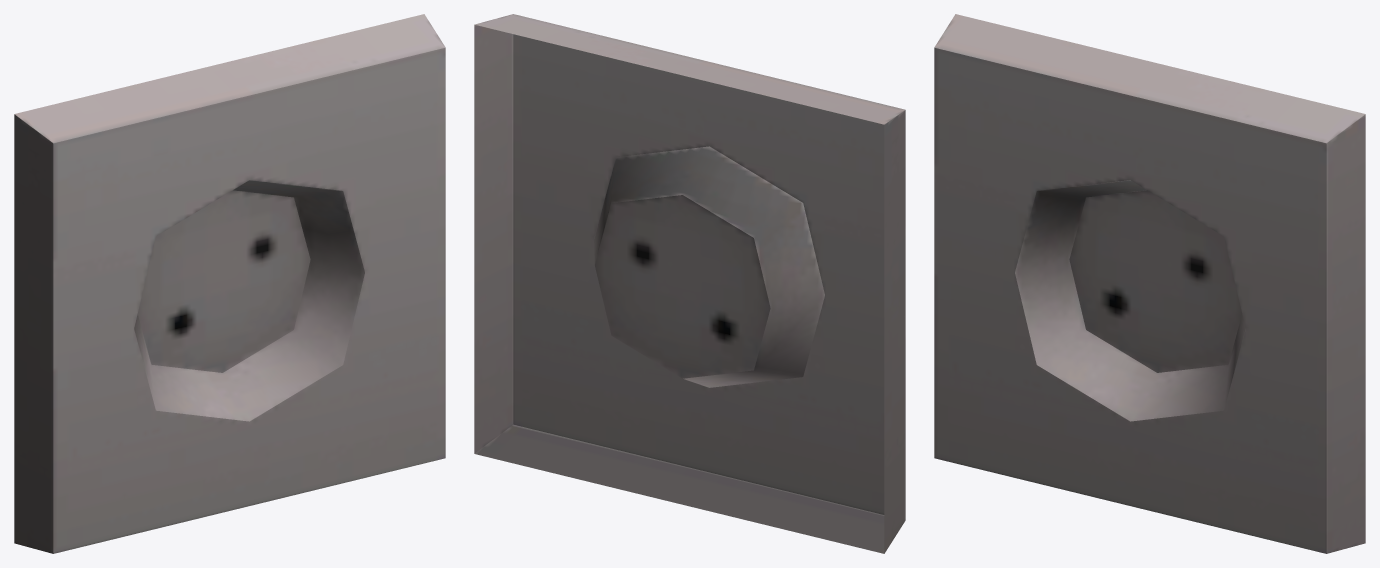
File: SM_Wall_Socket.FBX
The picture shows the model from 3 angles, left to right: view 1: azimuth 30°, elevation 25°; view 2: azimuth 150°, elevation 25°; view 3: azimuth 330°, elevation 25°; orthographic projection.
Parts seen in each view (by area): view 1: SM_Wall_Socket; view 2: SM_Wall_Socket; view 3: SM_Wall_Socket.
Part boxes in pixels (box(x1,y1,x2,y2)): SM_Wall_Socket: box(14, 14, 445, 553); SM_Wall_Socket: box(474, 14, 905, 553); SM_Wall_Socket: box(934, 14, 1365, 553).
Size of the model in its own units: 10.53 by 1.35 by 10.53.
